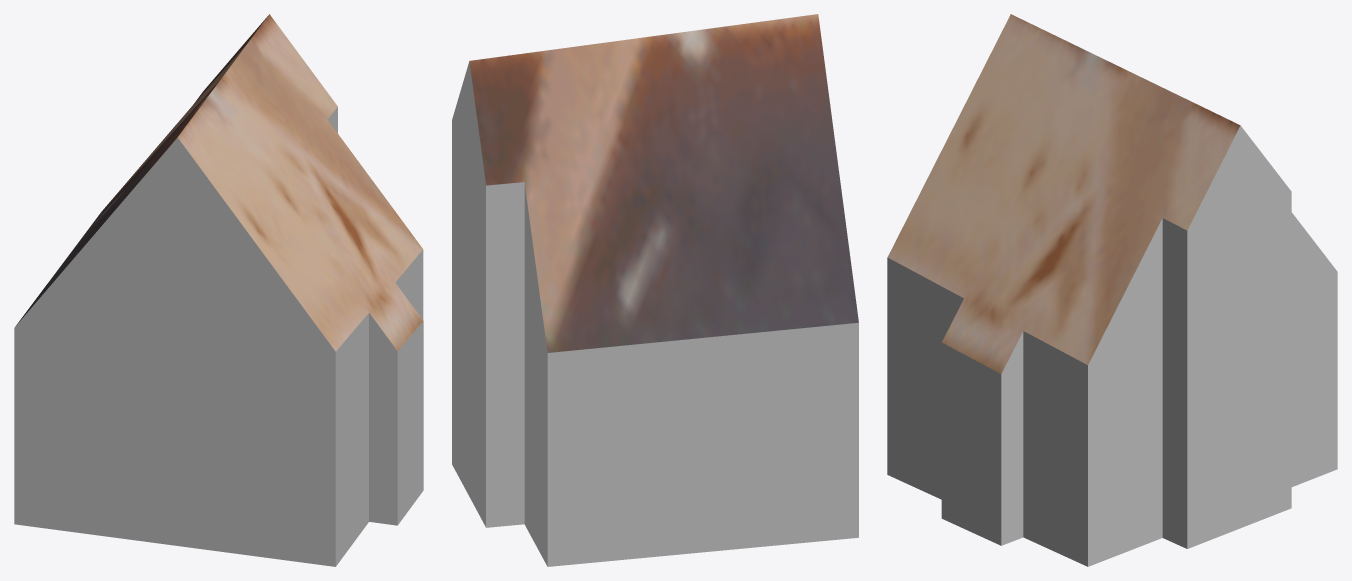
Rendered from DEBW_0010007Txcc.gltf.
3 renders of one model, left to right at view 1: azimuth 30°, elevation 25°; view 2: azimuth 150°, elevation 25°; view 3: azimuth 270°, elevation 25°, orthographic. The views are drawn at different scales.
Parts seen in each view (by area): view 1: Z_UP; view 2: Z_UP; view 3: Z_UP.
Boxes of the visible parts, <box> form: Z_UP: <box>14,14,423,566</box>; Z_UP: <box>452,14,858,566</box>; Z_UP: <box>887,14,1337,566</box>.
Size of the model in its own units: 15.2 by 15.45 by 15.26.
2 materials, 1 textured.
